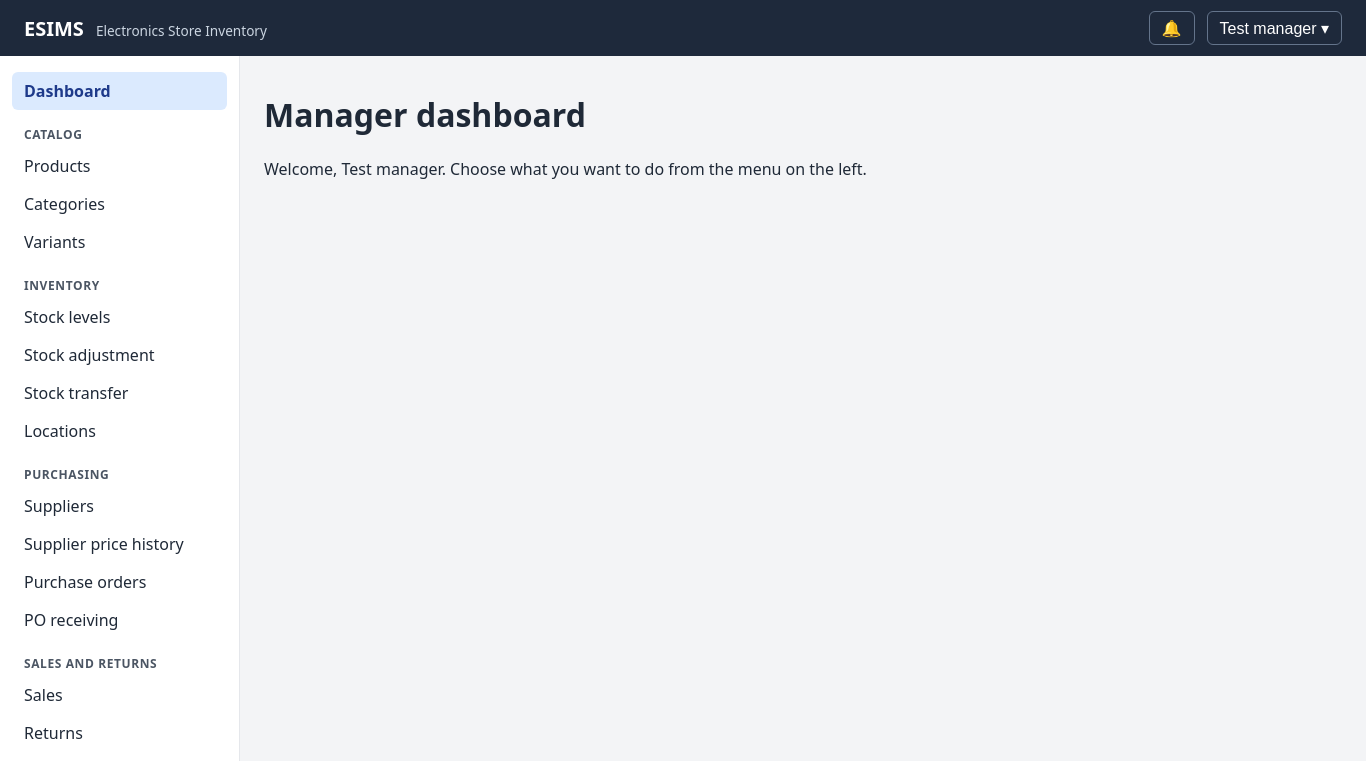
the notification panel displays PO updates in chronological order with timestamps
Click the button named "Notifications" at (1172, 28), box [1149,11,1195,45]
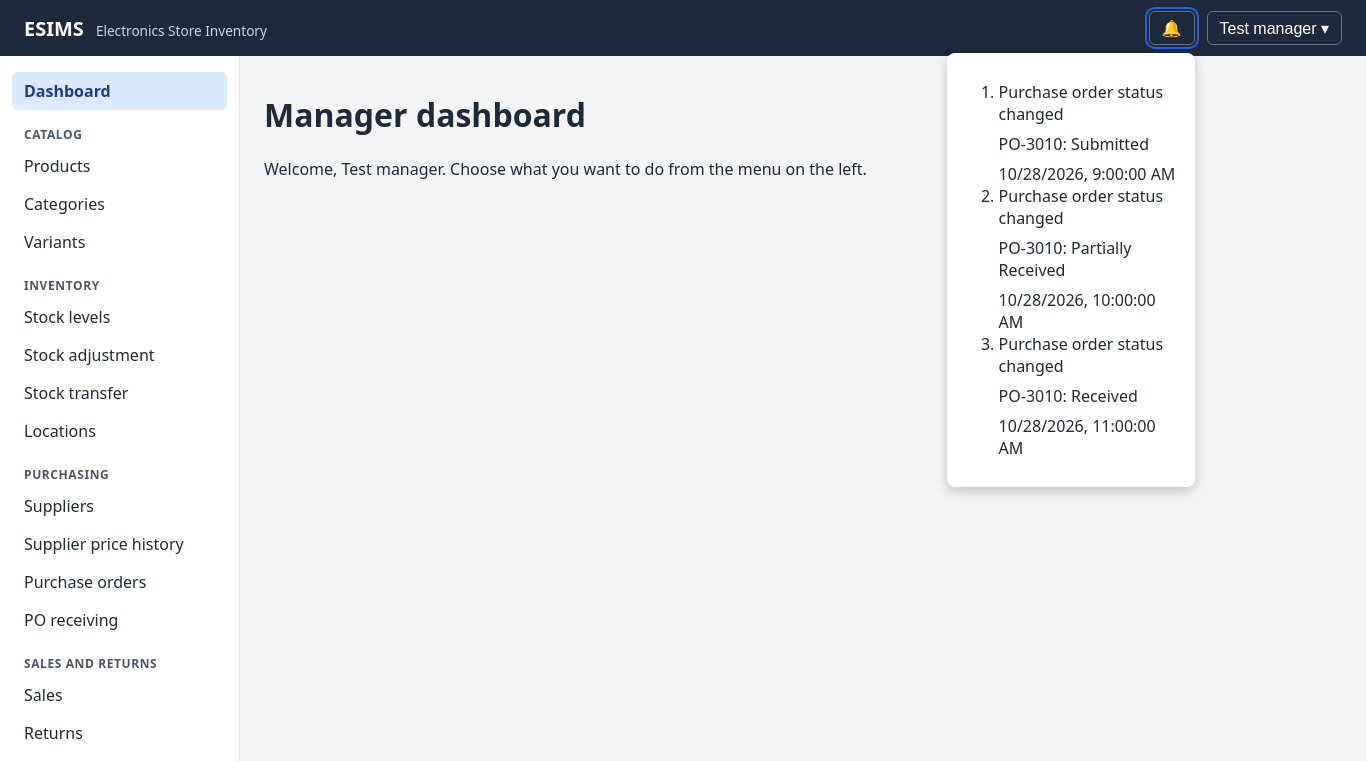
Check: the elements "PO-3010:" read "PO-3010: Submitted", "PO-3010: Partially Received", "PO-3010: Received", in this order, box [999,133,1149,155]; [999,237,1132,281]; [999,385,1138,407]
